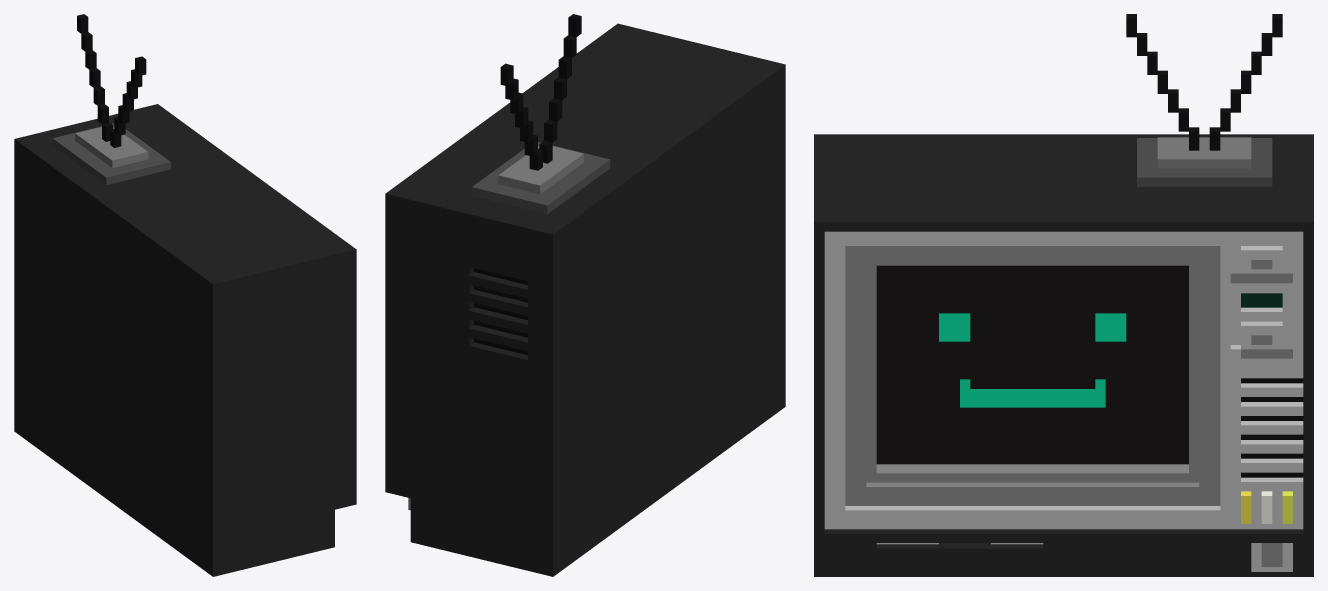
Rendered from main.obj.
3 renders of one model, left to right at view 1: azimuth 30°, elevation 25°; view 2: azimuth 150°, elevation 25°; view 3: azimuth 270°, elevation 25°, orthographic. The views are drawn at different scales.
Size of the model in its own units: 2.1 by 5.5 by 4.8.
Materials: 1 (1 with a texture image).
